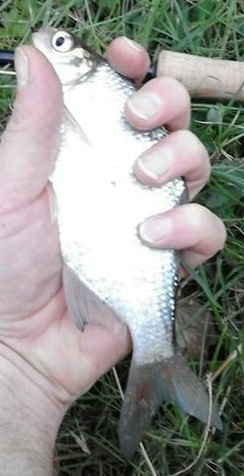Blicca bjoerkna: (20, 20, 224, 456)
